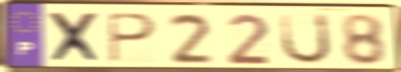2: (223, 11, 273, 66), (166, 12, 216, 65)
8: (339, 12, 388, 67)
P: (105, 12, 159, 65)
U: (278, 12, 334, 66)
X: (45, 11, 105, 65)
